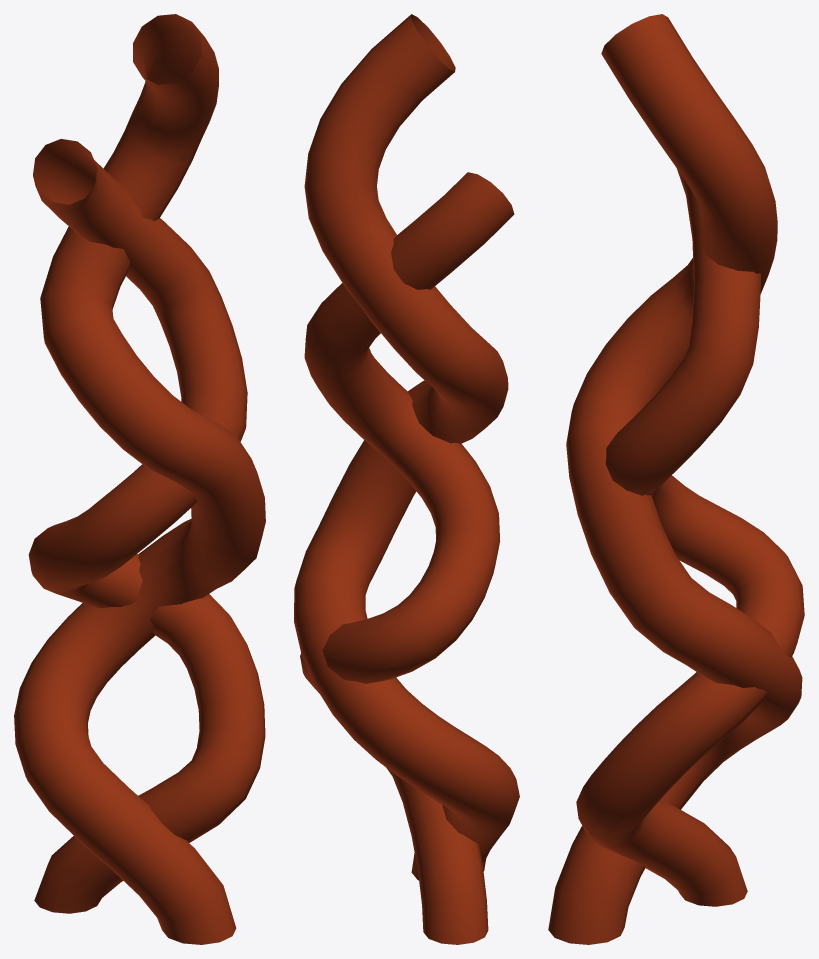
The model's file is SM_Thorns.fbx.
3 views of the same model, side by side, from view 1: azimuth 30°, elevation 25°; view 2: azimuth 150°, elevation 25°; view 3: azimuth 270°, elevation 25° (orthographic). The views are drawn at different scales.
Visible parts, largest first — view 1: SM_Thorns; view 2: SM_Thorns; view 3: SM_Thorns.
Part boxes in pixels (left/top/right/bottom): SM_Thorns: left=14, top=14, right=265, bottom=944; SM_Thorns: left=294, top=14, right=519, bottom=944; SM_Thorns: left=548, top=14, right=804, bottom=944.
Size of the model in its own units: 8.73 by 34.89 by 8.85.
